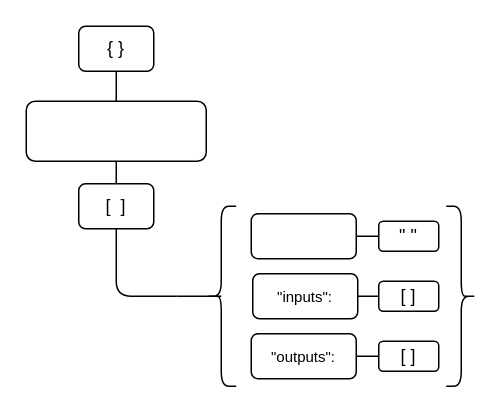
The diagram is 503 pixels wide and 413 high, and some of its shapes have lost their labels. Each missing label, with the centre of its shape:
"command" :: pixel 303 235
"rules" :: pixel 115 130
